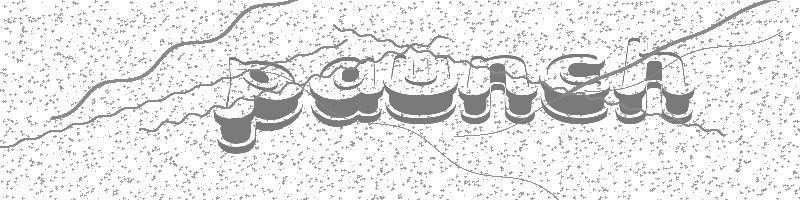a: (307, 54, 386, 124)
c: (539, 49, 612, 126)
h: (614, 35, 697, 124)
n: (462, 50, 537, 129)
p: (211, 53, 307, 155)
u: (386, 50, 459, 124)
